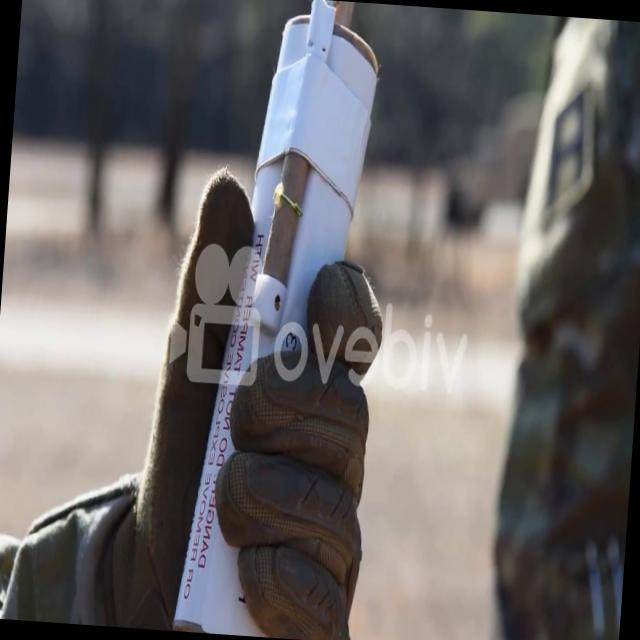grenade: (168, 22, 374, 638)
